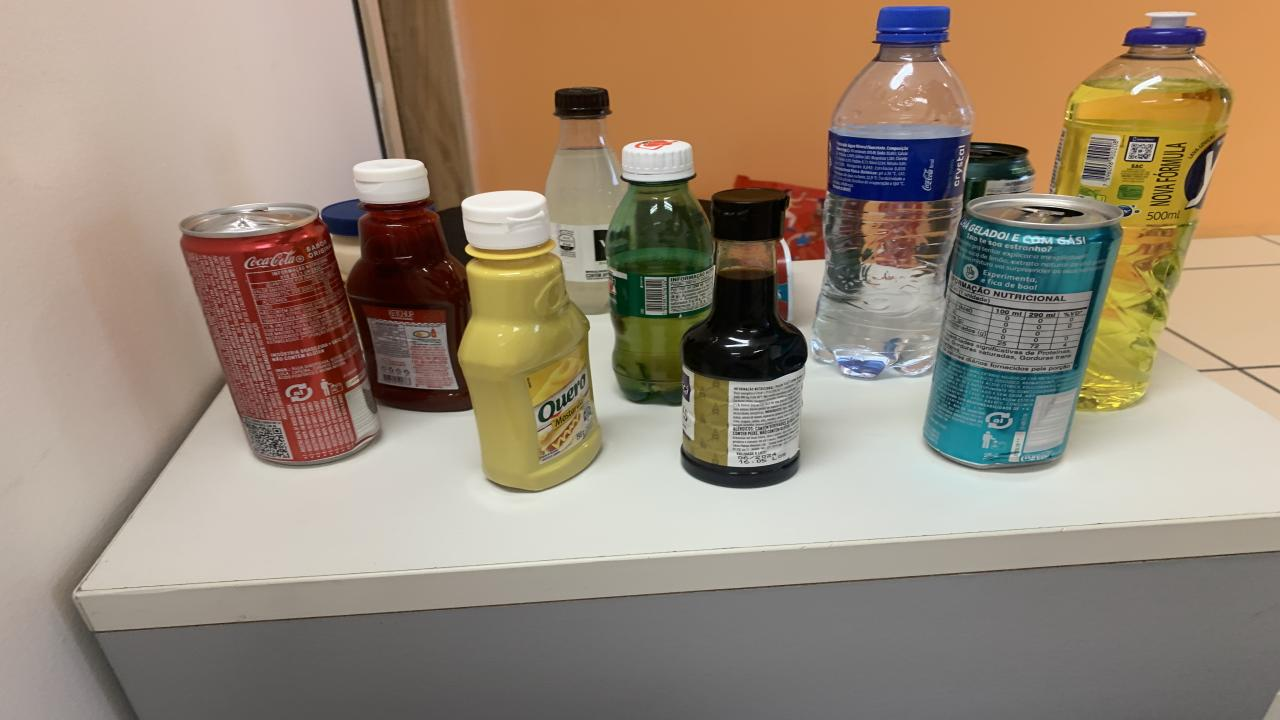Coke-Drinks: (180, 202, 380, 465)
Detergent-Cleanup_Items: (1050, 11, 1232, 411)
English_Sauce-Pantry_Items: (680, 189, 808, 486)
Guarana-Drinks: (608, 141, 712, 403)
Guarana_Can-Drinks: (965, 142, 1035, 204)
Ketchup-Pantry_Items: (348, 158, 470, 412)
Mayonnaise-Pantry_Items: (320, 199, 365, 279)
Mustard-Pantry_Items: (460, 191, 602, 491)
Soda-Drinks: (545, 86, 625, 313)
Tea-Drinks: (922, 193, 1122, 467)
Tuna_Can-Pantry_Items: (775, 238, 792, 321)
Water_Bottle-Drinks: (812, 8, 975, 377)
